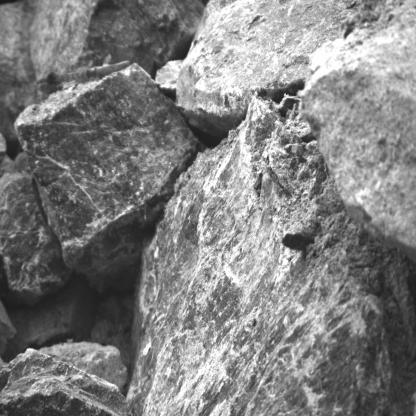stone: (126, 95, 396, 416), (13, 62, 207, 294), (176, 0, 370, 129), (0, 347, 142, 416), (0, 171, 73, 297)
